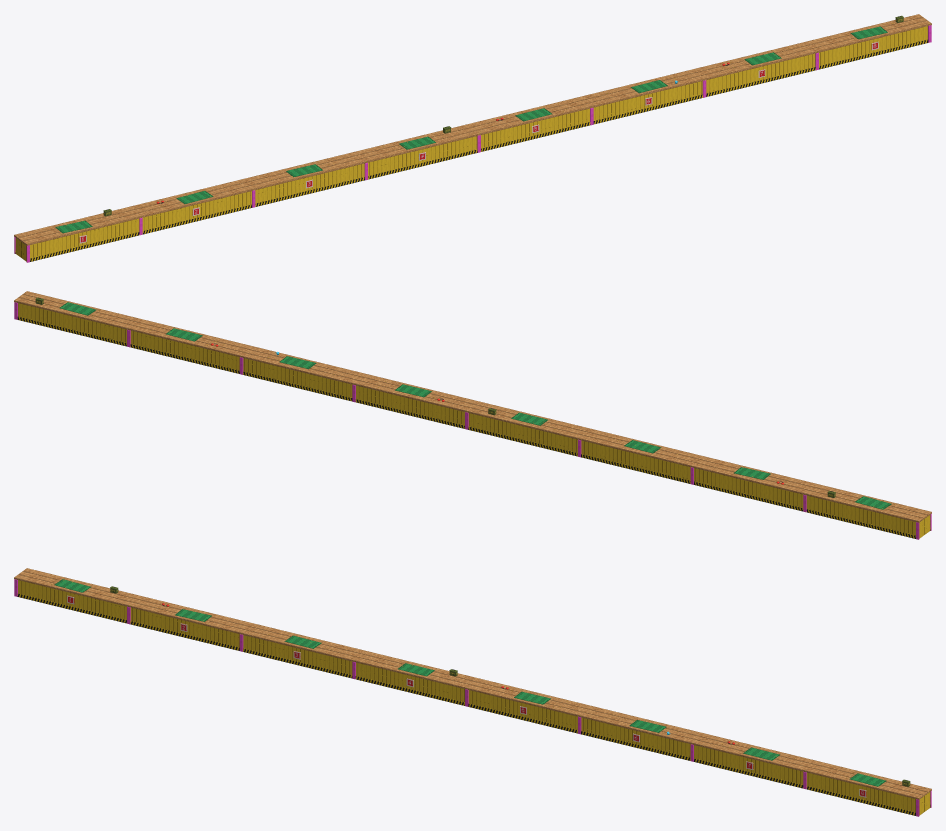
The model's file is p_rangebench.glb.
3 renders of one model, top to bottom at view 1: azimuth 30°, elevation 25°; view 2: azimuth 150°, elevation 25°; view 3: azimuth 330°, elevation 25°, orthographic.
Parts seen in each view (by area): view 1: p_rangebench_lod0; view 2: p_rangebench_lod0; view 3: p_rangebench_lod0.
Part boxes in pixels (x1,y1,x2,y2): p_rangebench_lod0: (14, 14, 931, 262); p_rangebench_lod0: (14, 291, 931, 539); p_rangebench_lod0: (14, 568, 931, 816).
Size of what is drawn, in the model's own units: 40 by 1.04 by 1.
2 materials, 1 textured.
